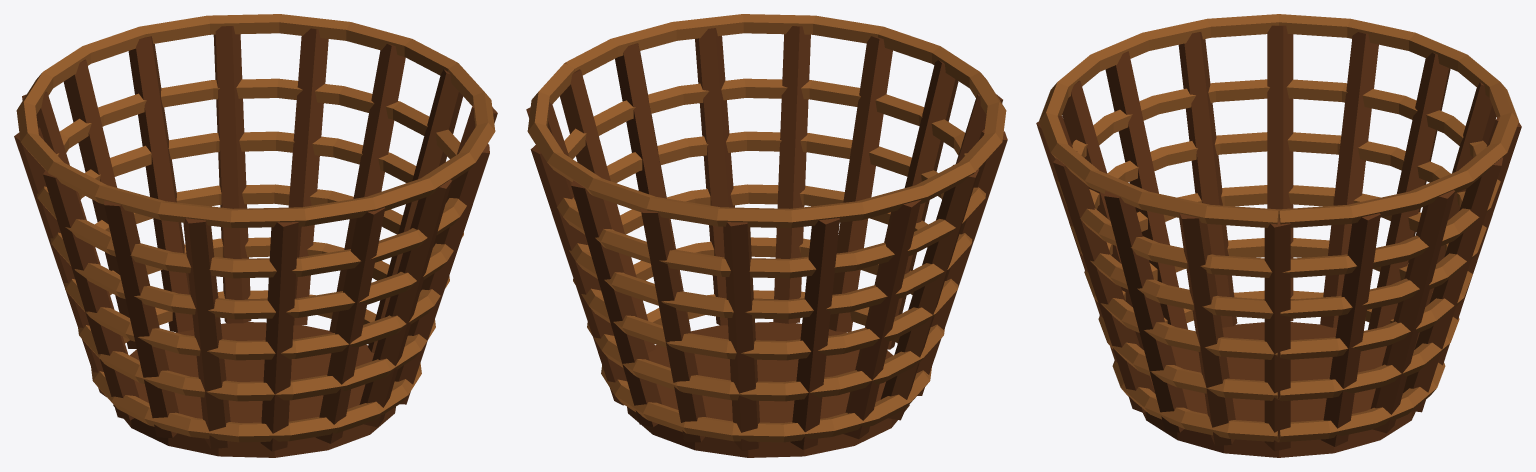
File: Cesto_trancado_LOD0.fbx
3 renders of one model, left to right at view 1: azimuth 30°, elevation 25°; view 2: azimuth 150°, elevation 25°; view 3: azimuth 270°, elevation 25°, orthographic.
Parts seen in each view (by area): view 1: Cesto_trancado_LOD0; view 2: Cesto_trancado_LOD0; view 3: Cesto_trancado_LOD0.
Boxes of the visible parts, box(x1,y1,x2,y2) form: Cesto_trancado_LOD0: box(14, 14, 497, 457); Cesto_trancado_LOD0: box(526, 14, 1007, 457); Cesto_trancado_LOD0: box(1036, 14, 1521, 457).
Size of the model in its own units: 84.55 by 54.71 by 84.55.
Materials: 1 (1 with a texture image).
